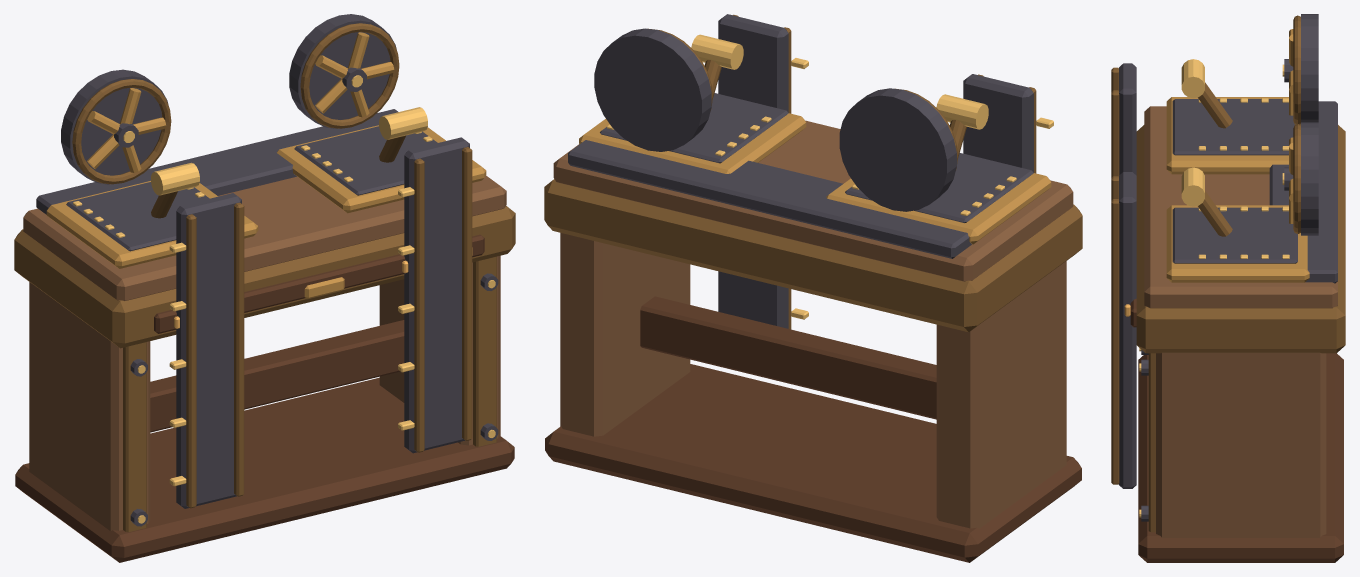
Rendered from SM_S3Bridge_SpliceDesk.fbx.
3 renders of one model, left to right at view 1: azimuth 30°, elevation 25°; view 2: azimuth 150°, elevation 25°; view 3: azimuth 270°, elevation 25°, orthographic. The views are drawn at different scales.
Parts seen in each view (by area): view 1: SM_S3Bridge_SpliceDesk; view 2: SM_S3Bridge_SpliceDesk; view 3: SM_S3Bridge_SpliceDesk.
Part boxes in pixels (bbox=[...]): SM_S3Bridge_SpliceDesk: bbox=[14, 14, 515, 562]; SM_S3Bridge_SpliceDesk: bbox=[544, 14, 1082, 562]; SM_S3Bridge_SpliceDesk: bbox=[1111, 14, 1345, 562].
Size of the model in its own units: 152 by 78.5 by 147.
